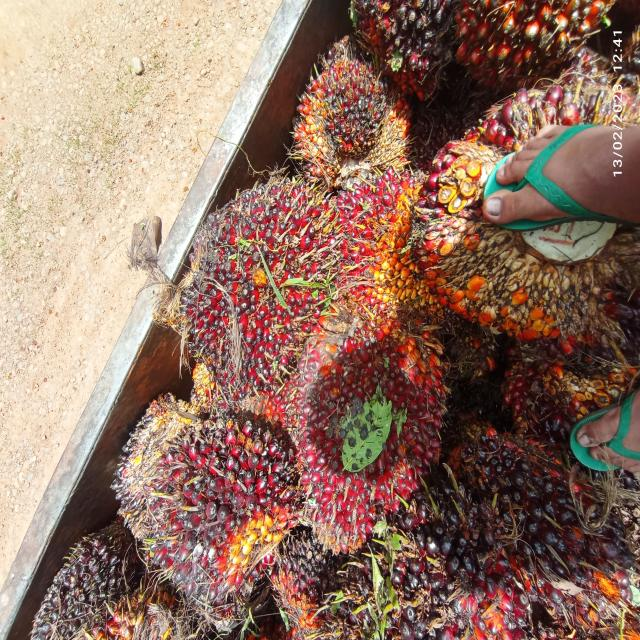fraksi 00: (16, 521, 153, 640)
fraksi 1: (382, 357, 628, 640), (166, 130, 327, 412), (138, 394, 314, 609), (276, 4, 416, 209)
fraksi 3: (276, 243, 450, 578), (316, 146, 434, 360)
